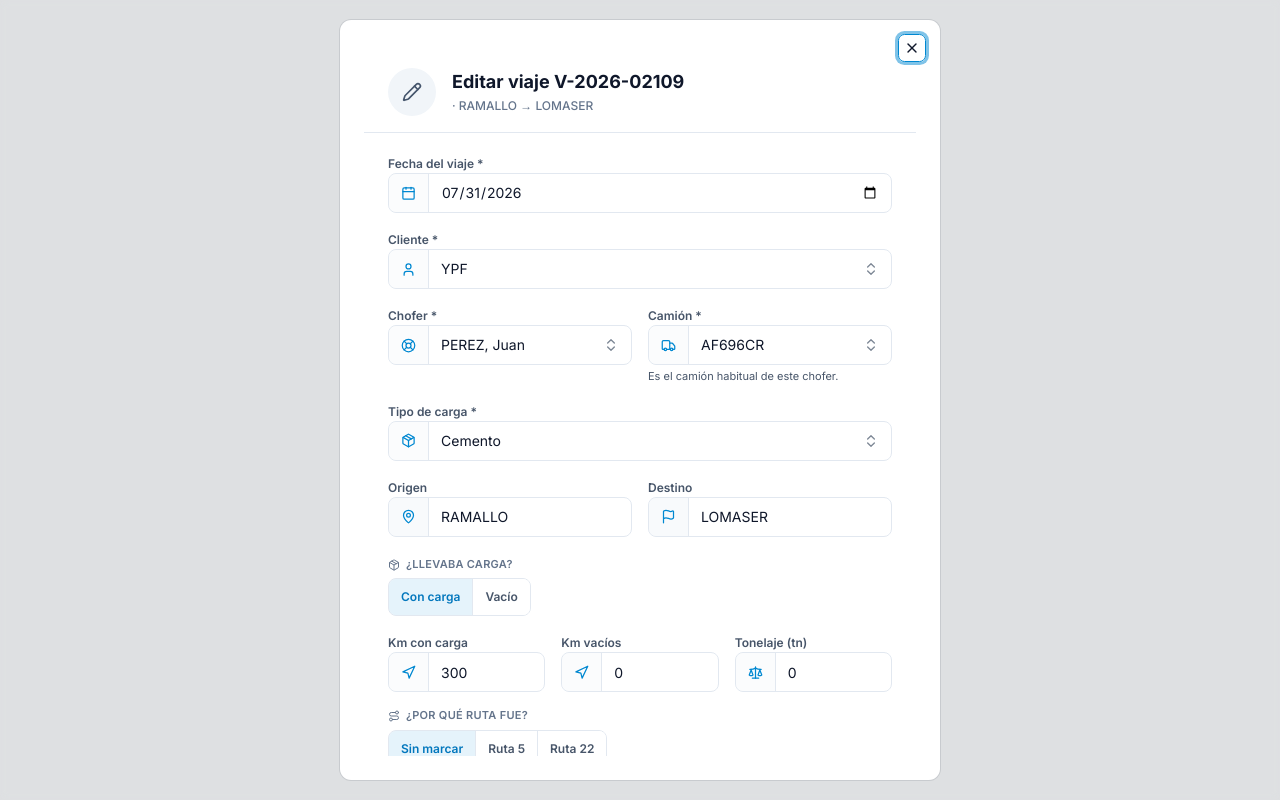
Scenario: EditViajeDialog — km al cambiar la ruta › destino sin historial: los km no quedan con los de la ruta anterior
Replace the text in the dropdown labelled "Destino" with "PLANTA URIBURU" at coordinates (806, 517), box [689,498,923,536]
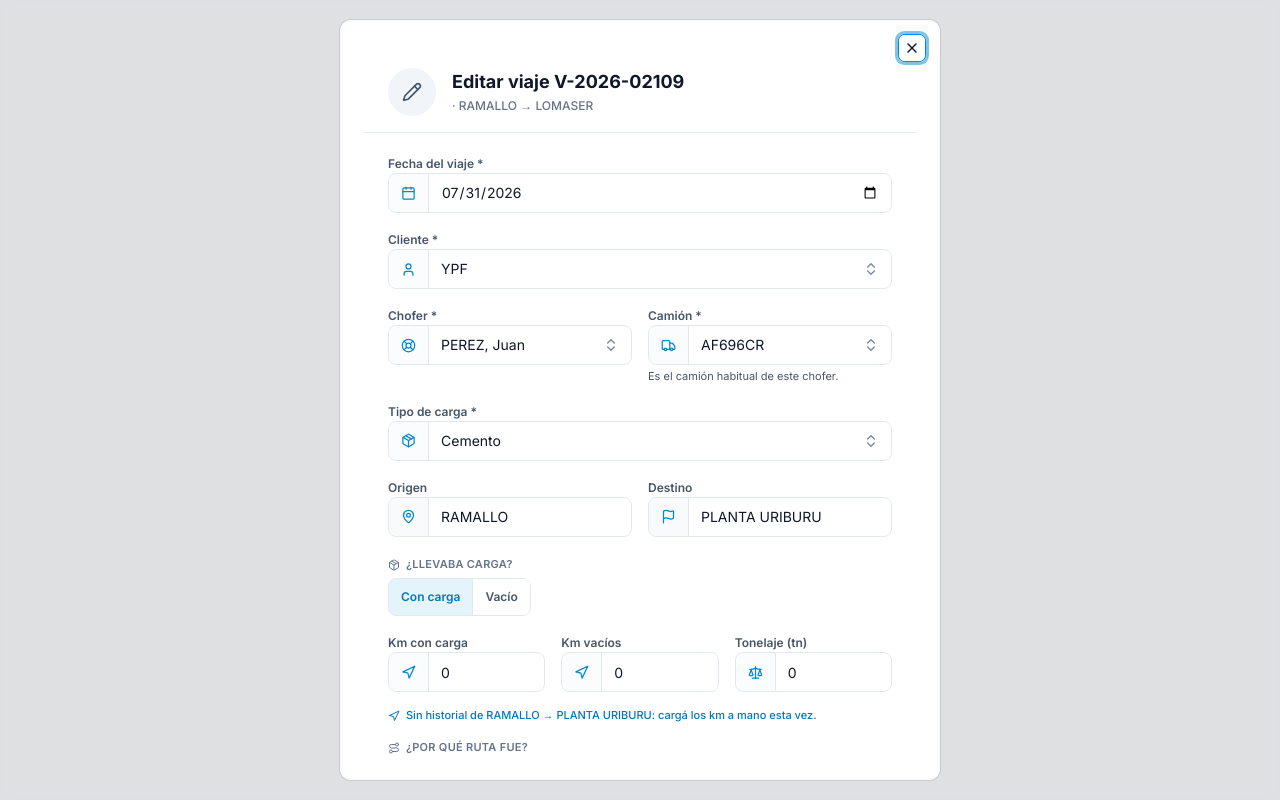
Result: the text "Sin historial de RAMALLO → PLANTA URIBURU" is shown at [406,708,816,722]
